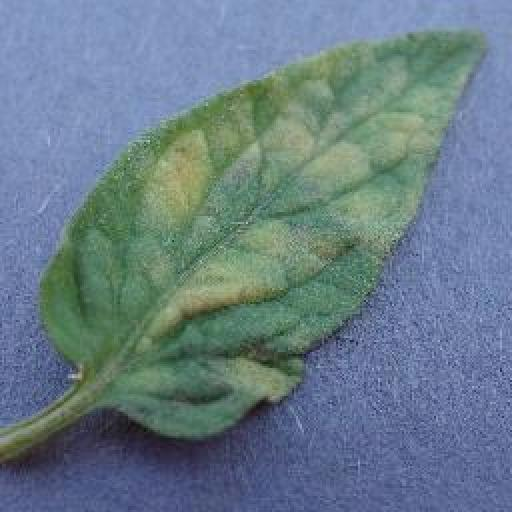disease_tomato: (42, 28, 487, 440)
